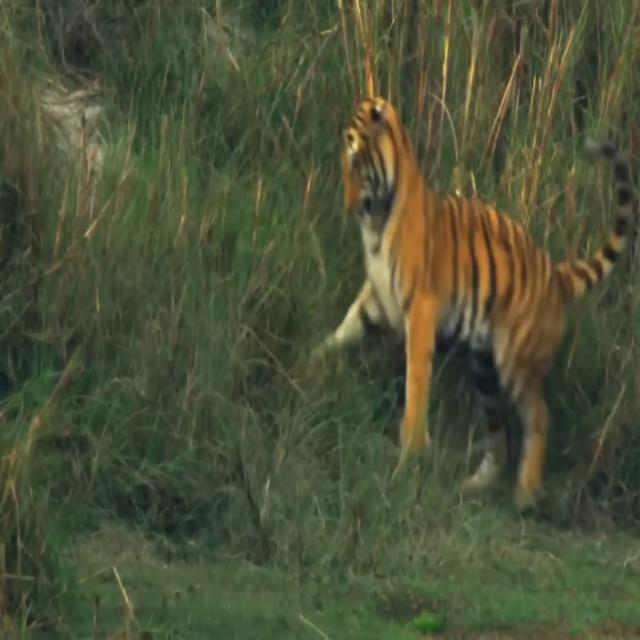tiger: (310, 96, 633, 510)
